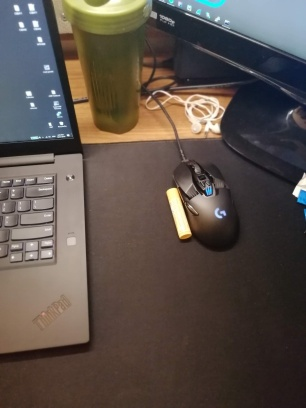chapstick: (165, 186, 195, 243)
